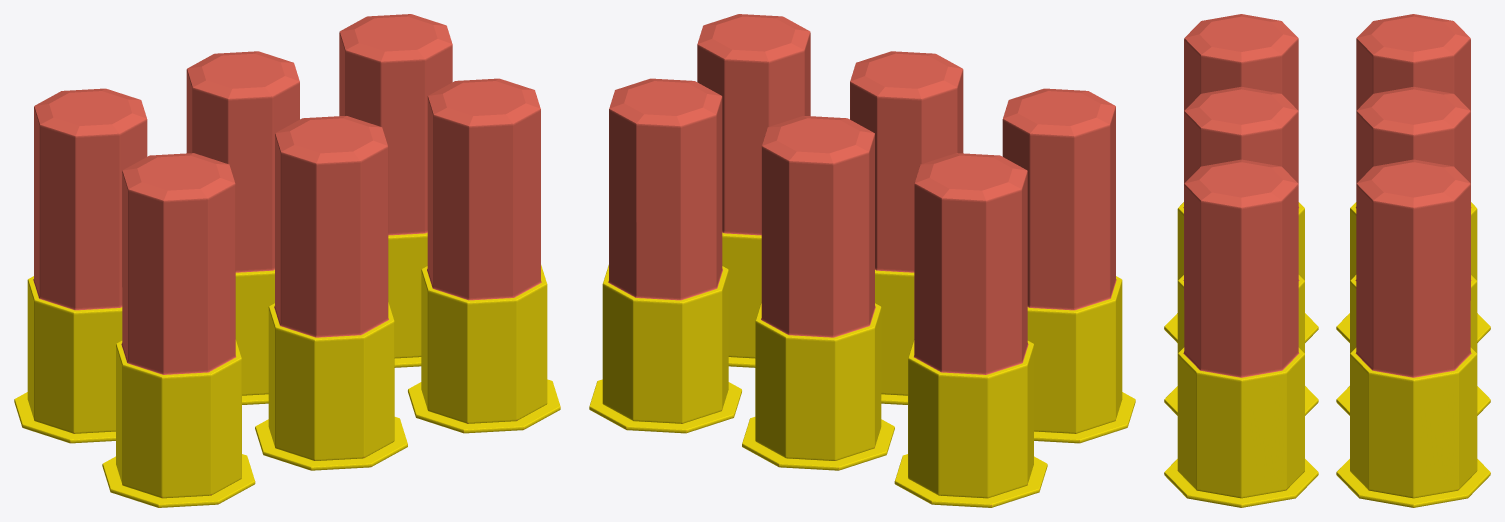
File: ShotgunAmmo.fbx
3 renders of one model, left to right at view 1: azimuth 30°, elevation 25°; view 2: azimuth 150°, elevation 25°; view 3: azimuth 270°, elevation 25°, orthographic. The views are drawn at different scales.
Parts seen in each view (by area): view 1: Cylinder.004, Cylinder.002, Cylinder.001, Cylinder.003, Cylinder.005, Cylinder; view 2: Cylinder.005, Cylinder, Cylinder.003, Cylinder.001, Cylinder.004, Cylinder.002; view 3: Cylinder.005, Cylinder.004, Cylinder, Cylinder.002, Cylinder.003, Cylinder.001.
Part boxes in pixels (x1,y1,x2,y2): Cylinder.004: [408, 78, 560, 433]; Cylinder.002: [255, 116, 407, 470]; Cylinder.001: [102, 153, 255, 507]; Cylinder.003: [14, 88, 147, 443]; Cylinder.005: [339, 14, 452, 367]; Cylinder: [186, 51, 299, 404]; Cylinder.005: [589, 78, 741, 433]; Cylinder: [742, 116, 894, 470]; Cylinder.003: [894, 153, 1047, 507]; Cylinder.001: [1002, 88, 1135, 443]; Cylinder.004: [697, 14, 810, 367]; Cylinder.002: [850, 51, 963, 404]; Cylinder.005: [1336, 159, 1490, 507]; Cylinder.004: [1164, 159, 1318, 507]; Cylinder: [1336, 86, 1490, 415]; Cylinder.002: [1164, 86, 1318, 415]; Cylinder.003: [1336, 14, 1490, 342]; Cylinder.001: [1164, 14, 1318, 342].
Bounding box in the file's own units: 869 × 568 × 569.
